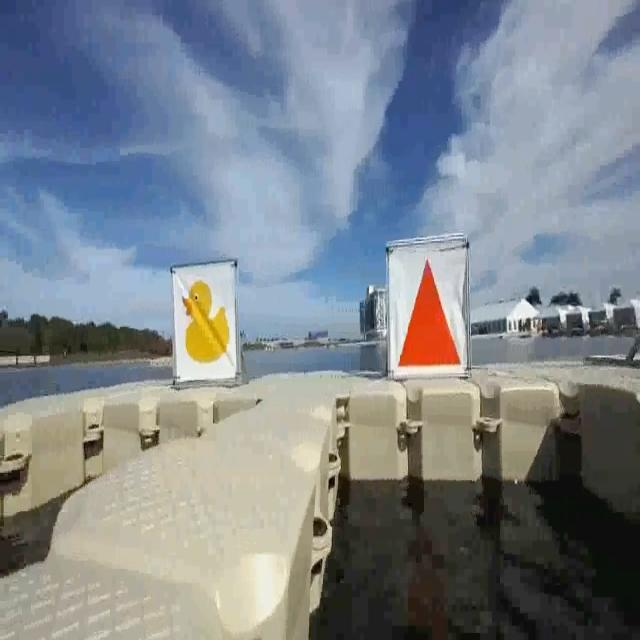red-dot: (393, 252, 466, 383)
yellow-duck: (170, 266, 243, 396)
